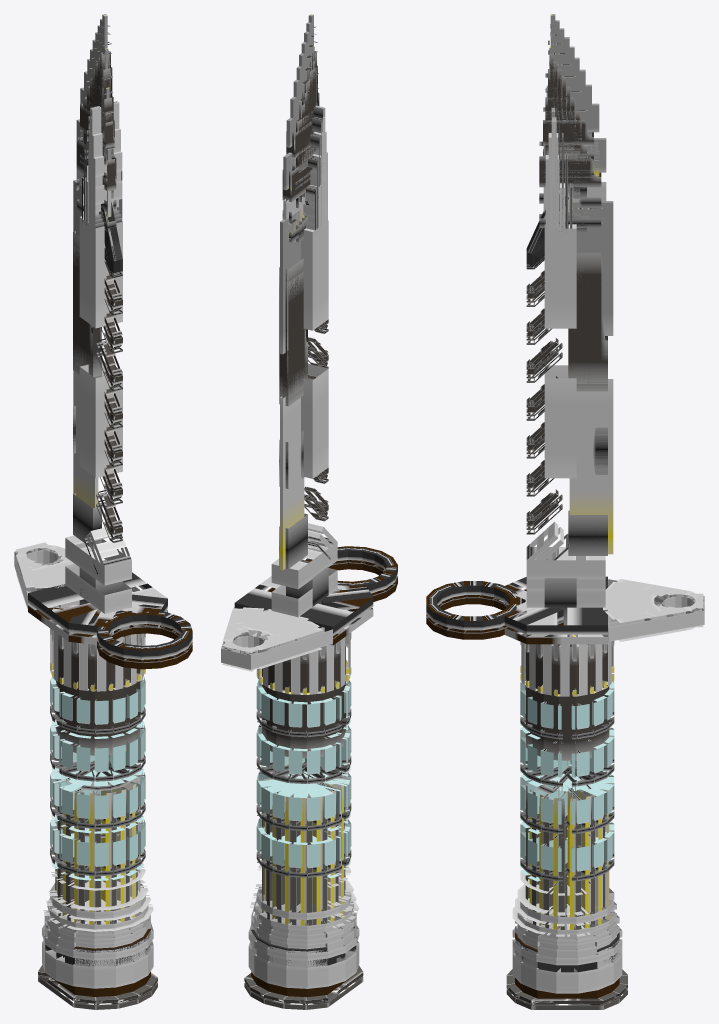
File: tacknife.obj
The picture shows the model from 3 angles, left to right: view 1: azimuth 30°, elevation 25°; view 2: azimuth 150°, elevation 25°; view 3: azimuth 270°, elevation 25°; orthographic projection.
Parts seen in each view (by area): view 1: hexadecagon, hexadecagon4, hexadecagon5, hexadecagon8, hexadecagon2, hexadecagon12, hexadecagon9, hexadecagon6, hexadecagon10, hexadecagon7, hexadecagon13, hexadecagon11; view 2: hexadecagon, hexadecagon5, hexadecagon4, hexadecagon2, hexadecagon8, hexadecagon6, hexadecagon9, hexadecagon12, hexadecagon13, hexadecagon11, hexadecagon7; view 3: hexadecagon, hexadecagon4, hexadecagon5, hexadecagon8, hexadecagon9, hexadecagon6, hexadecagon2, hexadecagon12, hexadecagon7, hexadecagon10, hexadecagon11.
Boxes of the visible parts, <box> form: hexadecagon: <box>14,542,192,1009</box>; hexadecagon4: <box>73,189,131,604</box>; hexadecagon5: <box>65,130,131,637</box>; hexadecagon8: <box>83,14,122,463</box>; hexadecagon2: <box>28,572,167,641</box>; hexadecagon12: <box>84,128,122,232</box>; hexadecagon9: <box>84,19,122,426</box>; hexadecagon6: <box>76,98,122,539</box>; hexadecagon10: <box>96,202,122,387</box>; hexadecagon7: <box>80,25,122,501</box>; hexadecagon13: <box>88,101,119,229</box>; hexadecagon11: <box>82,177,118,274</box>; hexadecagon: <box>221,546,397,1009</box>; hexadecagon5: <box>271,156,337,617</box>; hexadecagon4: <box>279,212,337,606</box>; hexadecagon2: <box>234,576,373,645</box>; hexadecagon8: <box>296,14,328,379</box>; hexadecagon6: <box>283,117,328,520</box>; hexadecagon9: <box>290,22,328,368</box>; hexadecagon12: <box>305,131,327,229</box>; hexadecagon13: <box>309,105,325,225</box>; hexadecagon11: <box>303,183,324,233</box>; hexadecagon7: <box>286,26,327,483</box>; hexadecagon: <box>426,577,704,1009</box>; hexadecagon4: <box>526,207,607,625</box>; hexadecagon5: <box>526,141,613,635</box>; hexadecagon8: <box>526,14,586,458</box>; hexadecagon9: <box>526,20,591,420</box>; hexadecagon6: <box>526,107,606,534</box>; hexadecagon2: <box>526,576,607,644</box>; hexadecagon12: <box>545,133,567,232</box>; hexadecagon7: <box>526,24,599,496</box>; hexadecagon10: <box>526,194,568,382</box>; hexadecagon11: <box>527,183,572,268</box>.
Bounding box in the file's own units: 0.0859 × 0.8037 × 0.2081.
